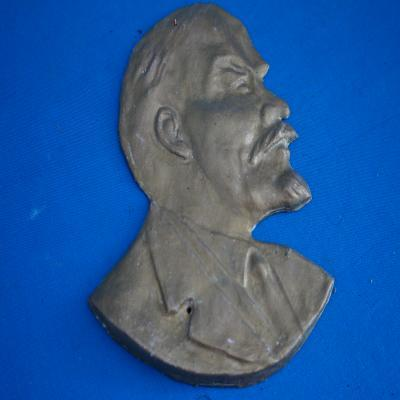sculpture: (86, 4, 335, 390)
